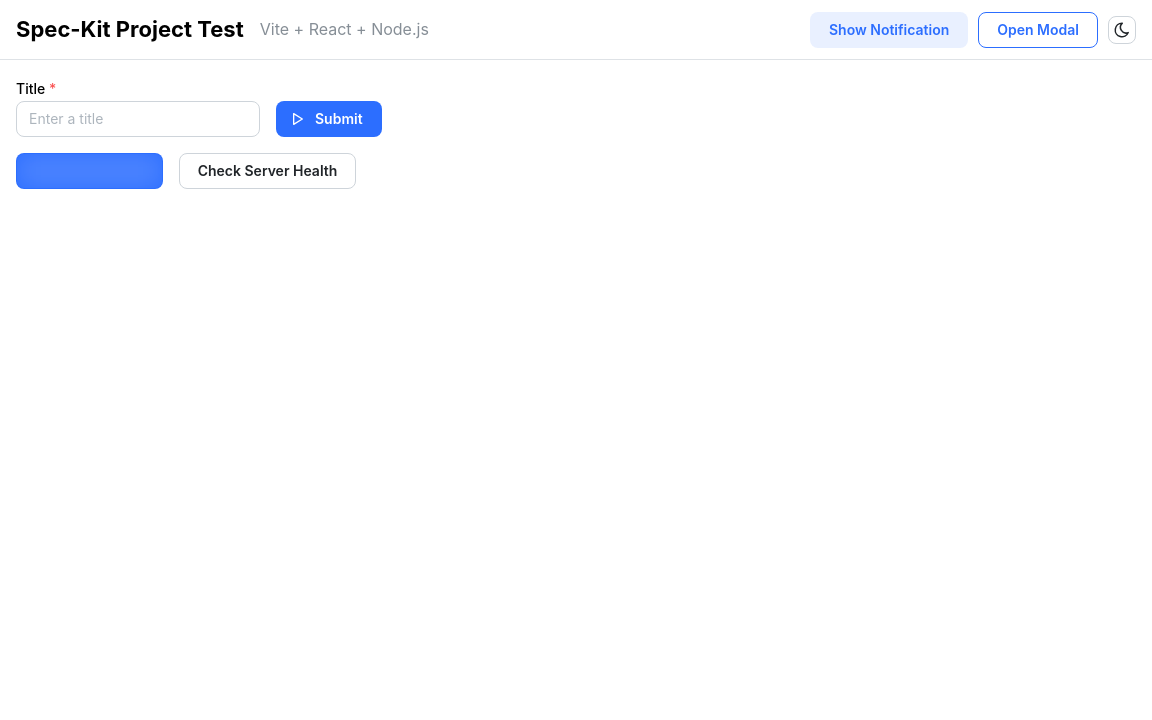
Test: App (Mantine integration) › shows a notification when clicking the demo button
The width and height of the screenshot is (1152, 720).
Click the button "Show Notification".
click(889, 30)  # box [810,12,968,48]
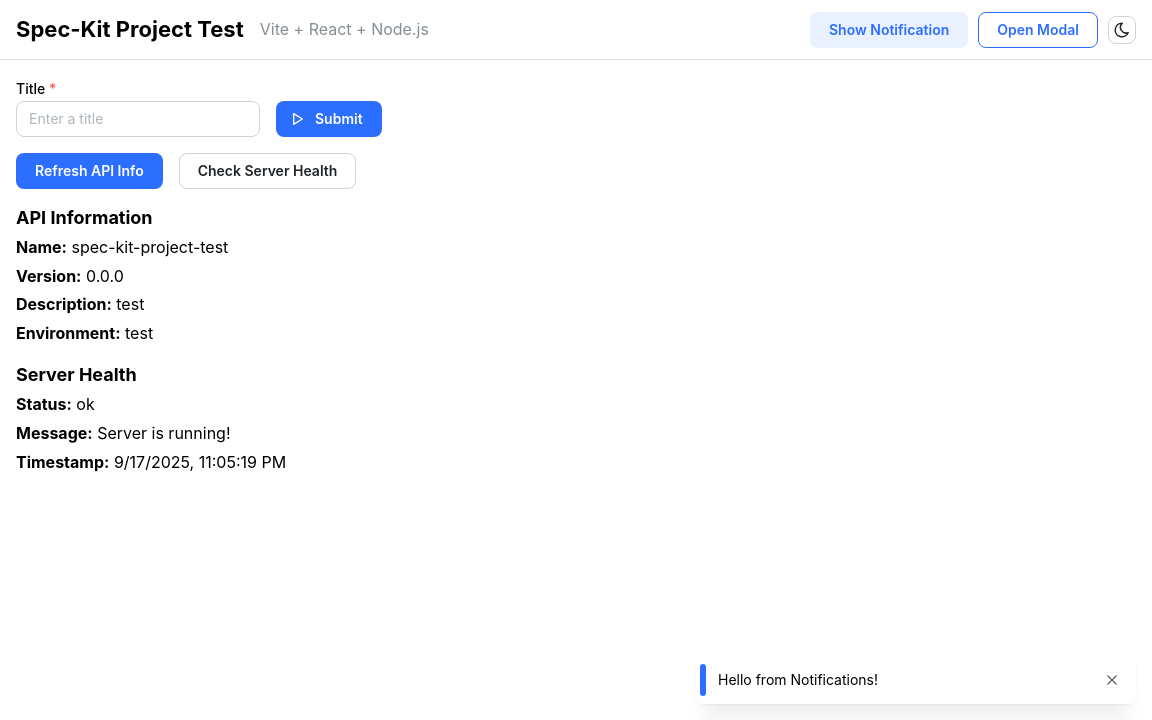
Check: the text "Hello from Notifications!" is shown, box [718,671,878,688]
